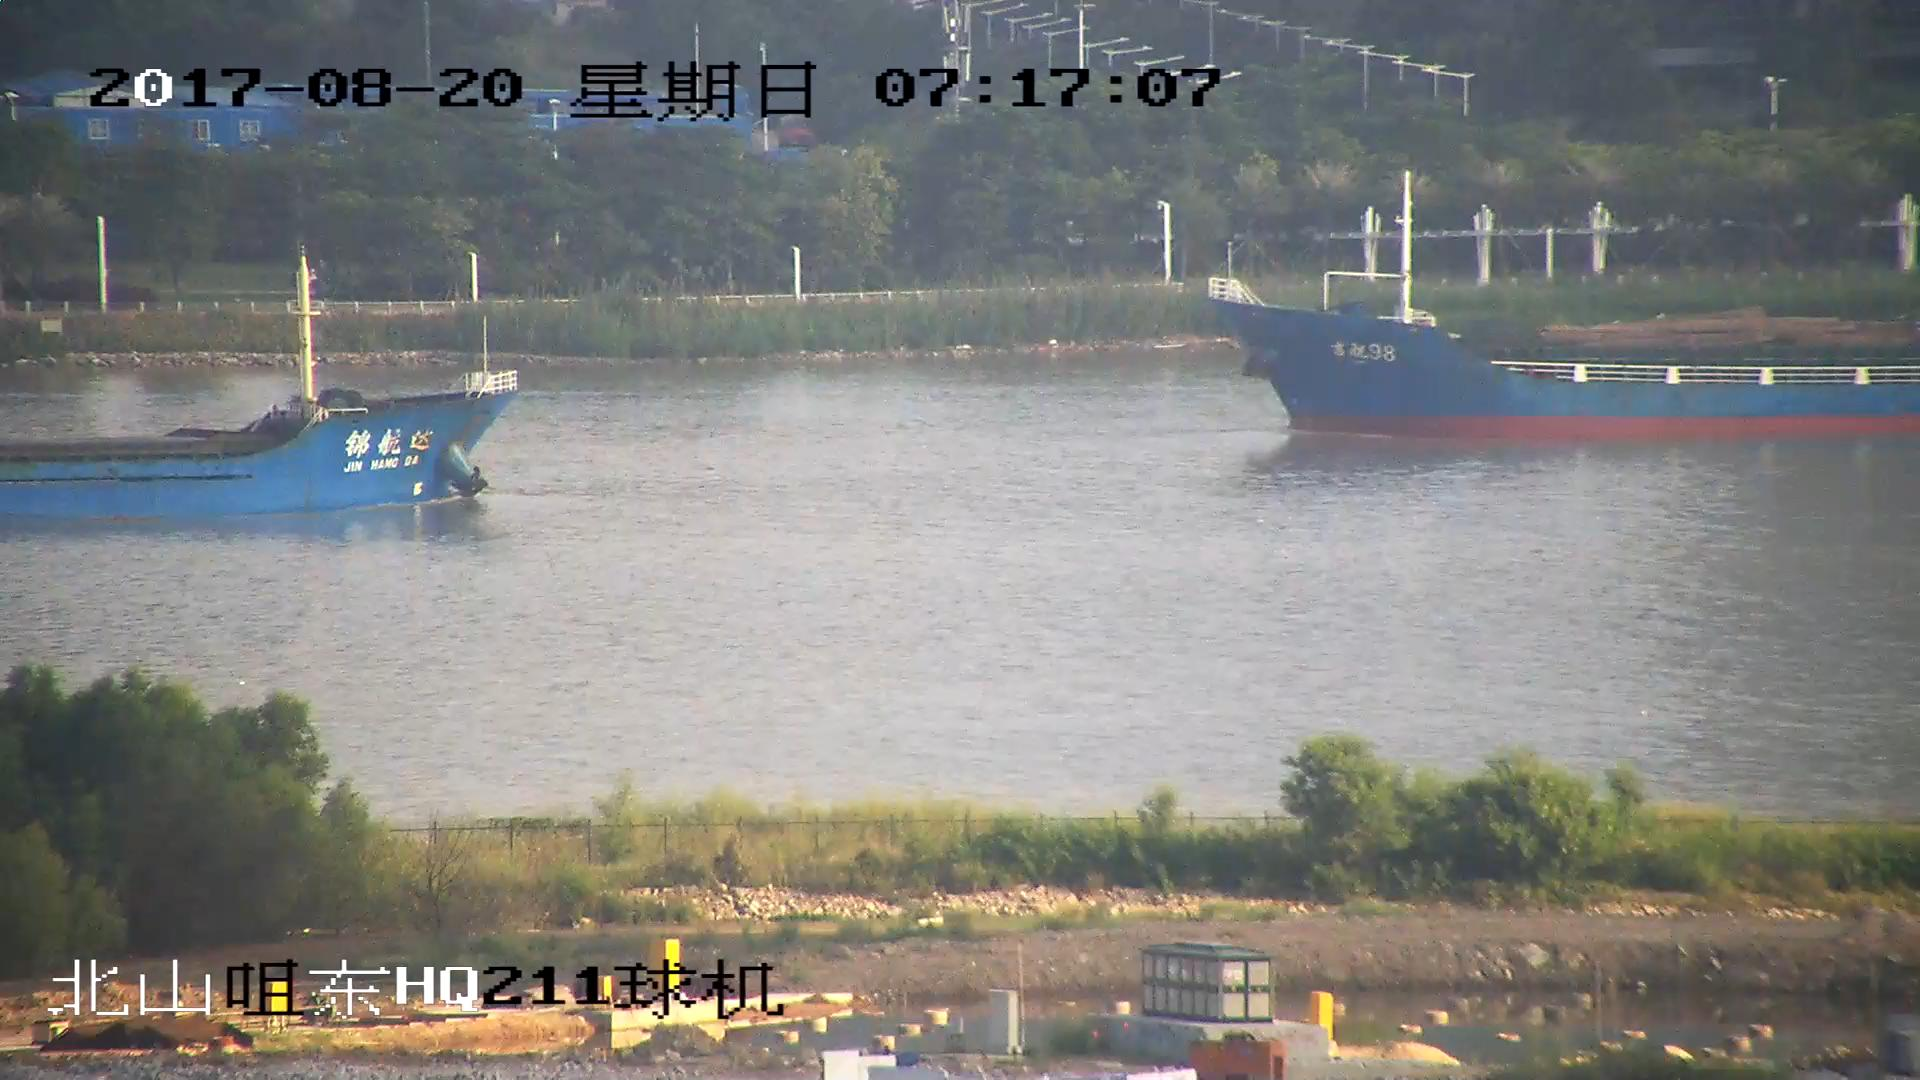general cargo ship: (1219, 176, 1920, 445), (1, 293, 509, 532)
